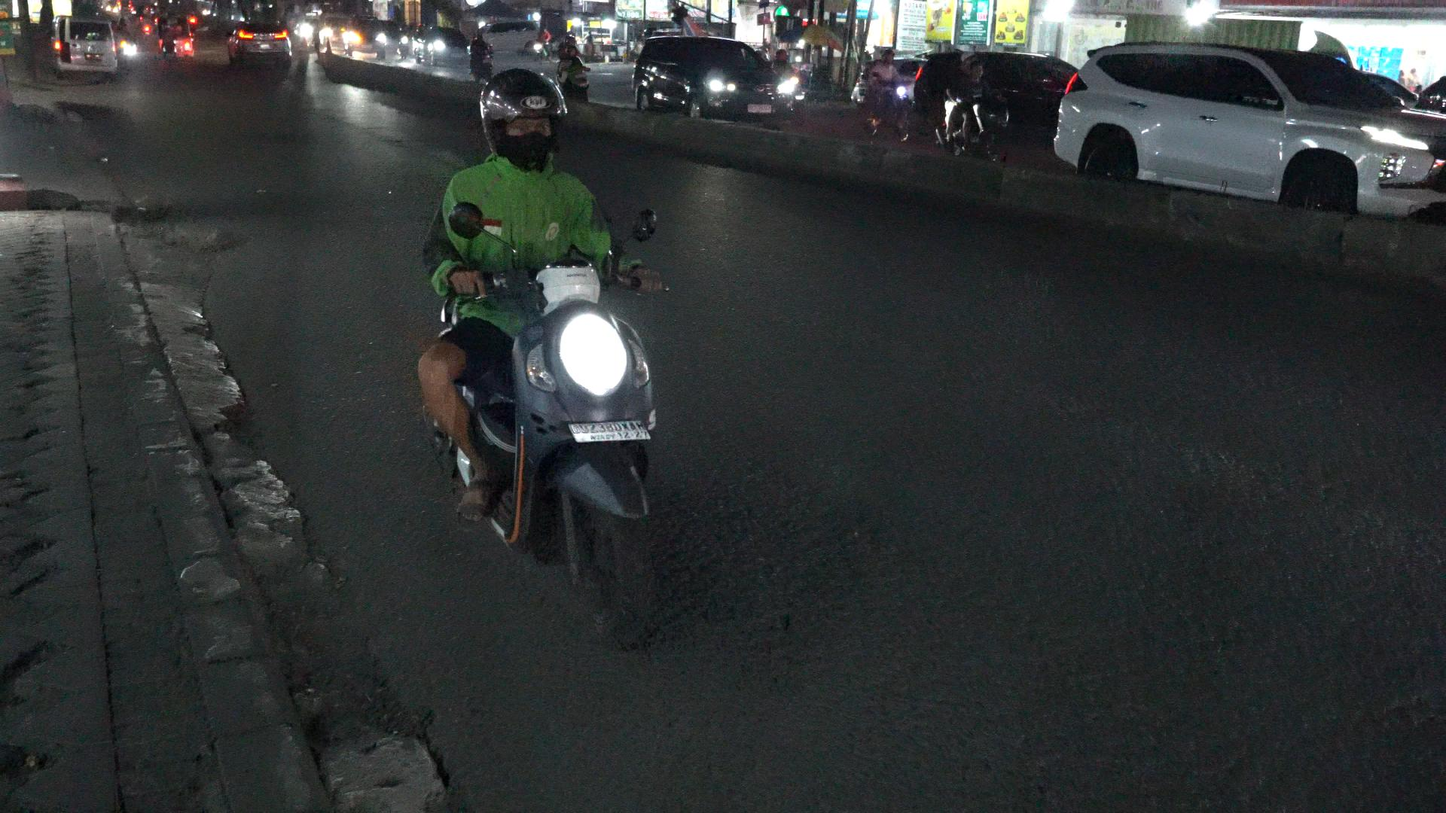number-plate: (566, 414, 653, 449)
